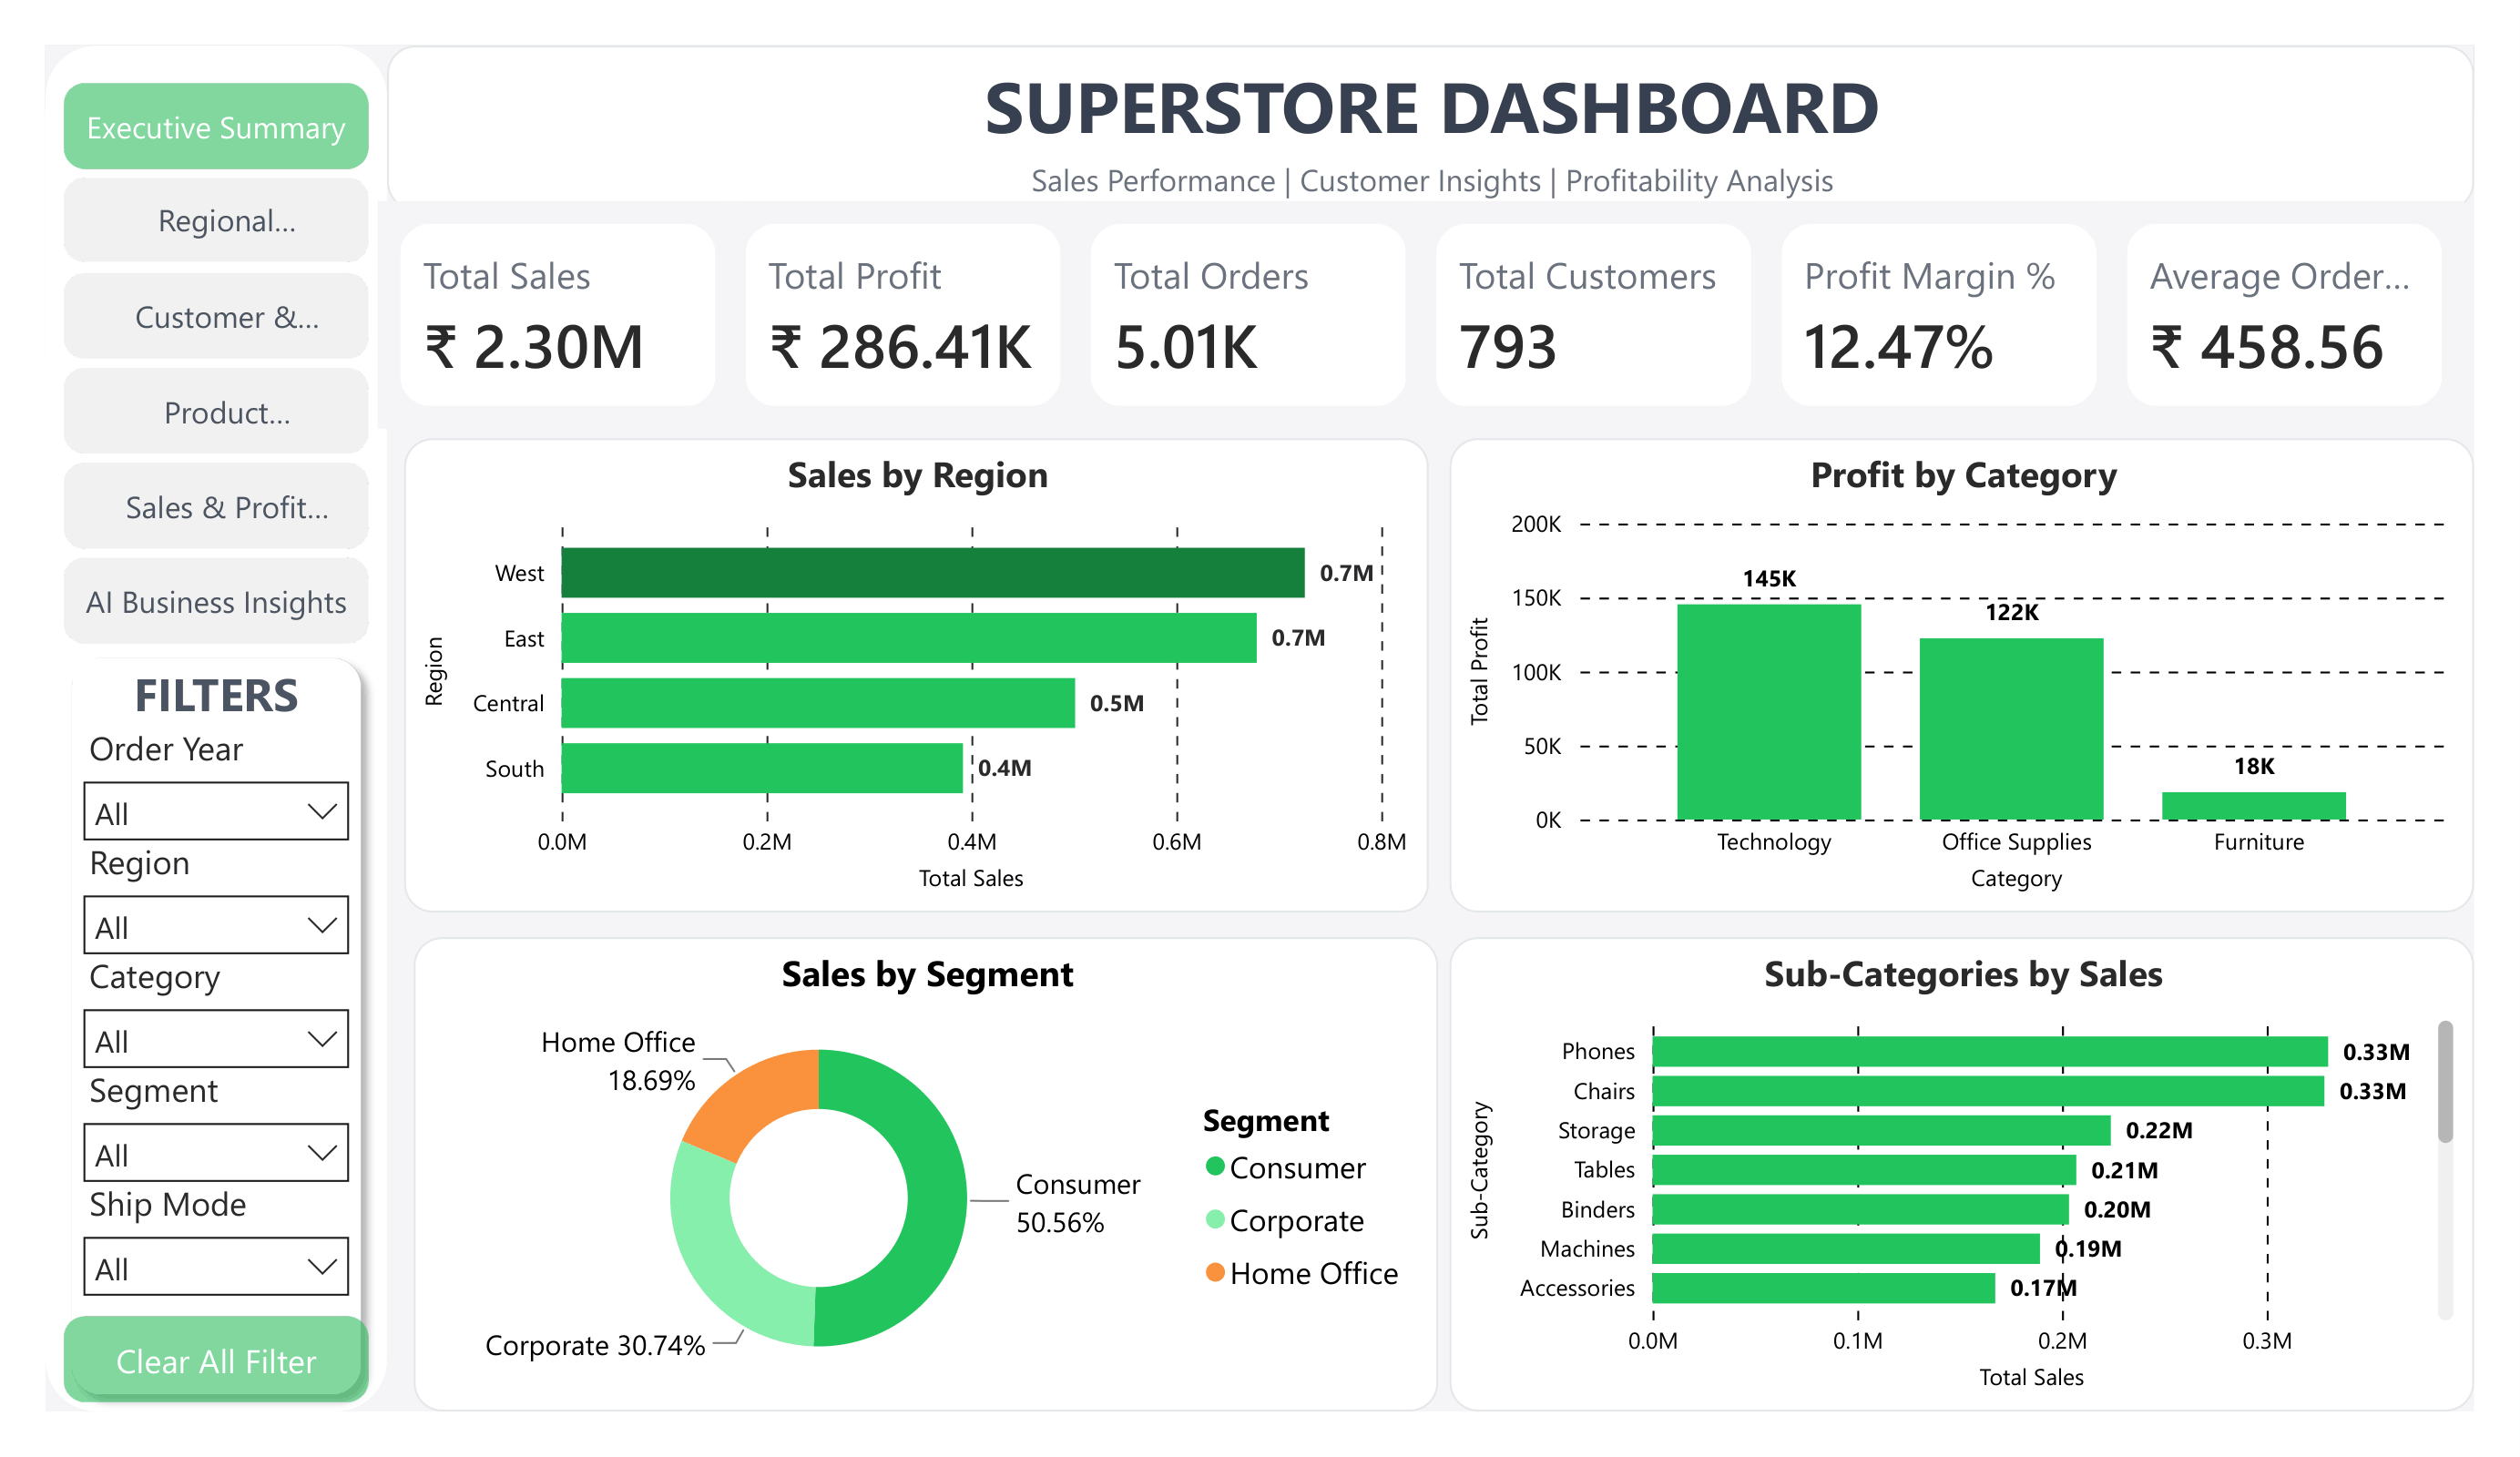

The dashboard page shown, as its layout file describes it:
{"tool":"powerbi","page":{"name":"Executive Summary","canvas":[1280,720],"ordinal":0},"visuals":[{"type":"textbox","title":"SUPERSTORE DASHBOARD","box":[180,0,1100,87.1],"z":0},{"type":"shape","box":[0,0,180,720],"z":1000},{"type":"actionButton","box":[10,70,160,44.3],"z":2000},{"type":"actionButton","box":[10,120,160,45],"z":3000},{"type":"actionButton","box":[10,170,160,45],"z":4000},{"type":"actionButton","box":[10,220,160,45],"z":5000},{"type":"actionButton","box":[10,270,160,45],"z":6000},{"type":"actionButton","box":[10,20,160,45],"z":7000},{"type":"shape","box":[5,314.3,170,405.7],"z":8000},{"type":"actionButton","box":[10,670,160,45],"z":9000},{"type":"slicer","fields":{"Values":["cleaned_superstore.Region"]},"box":[10,412.9,160,70],"z":10000},{"type":"slicer","fields":{"Values":["cleaned_superstore.Category"]},"box":[10,472.9,160,70],"z":11000},{"type":"slicer","fields":{"Values":["cleaned_superstore.Ship Mode"]},"box":[10,592.9,160,70],"z":12000},{"type":"slicer","fields":{"Values":["cleaned_superstore.Segment"]},"box":[10,532.9,160,70],"z":13000},{"type":"slicer","fields":{"Values":["cleaned_superstore.Order Year"]},"box":[10,352.9,160,70],"z":14000},{"type":"textbox","box":[10,320,160,46],"z":15000},{"type":"cardVisual","fields":{"Data":["Measures_table.Total Sales"]},"box":[170,77.1,200,130],"z":16000},{"type":"cardVisual","fields":{"Data":["Measures_table.Total Profit"]},"box":[352,77.1,200,130],"z":17000},{"type":"cardVisual","fields":{"Data":["Measures_table.Total Orders"]},"box":[534,77.1,200,130],"z":18000},{"type":"cardVisual","fields":{"Data":["Measures_table.Total Customers"]},"box":[716,77.1,200,130],"z":19000},{"type":"cardVisual","fields":{"Data":["Measures_table.Profit Margin %"]},"box":[898,77.1,200,130],"z":20000},{"type":"cardVisual","fields":{"Data":["Measures_table.Average Order Value"]},"box":[1080,77.1,200,130],"z":21000},{"type":"clusteredBarChart","title":"Sales by Region","fields":{"Y":["Measures_table.Total Sales"],"Category":["cleaned_superstore.Region"]},"box":[188.6,207.1,540,250],"z":22000},{"type":"clusteredColumnChart","title":"Profit by Category","fields":{"Y":["Measures_table.Total Profit"],"Category":["cleaned_superstore.Category"]},"box":[740,207.1,540,250],"z":23000},{"type":"donutChart","title":"Sales by Segment","fields":{"Y":["Measures_table.Total Sales"],"Category":["cleaned_superstore.Segment"]},"box":[194.3,470,540,250],"z":24000},{"type":"clusteredBarChart","title":"Sub-Categories by Sales","fields":{"Category":["cleaned_superstore.Sub-Category"],"Y":["Measures_table.Total Sales"]},"box":[740,470,540,250],"z":25000}]}

Visuals, with their boxes on the page's 1280x720 design canvas (x1, y1, x2, y2). These are canvas units, not pixel positions in the 2520x1457 screenshot, which may show the page scaled, cropped or inside an application window:
"SUPERSTORE DASHBOARD" textbox: {"left": 180, "top": 0, "right": 1280, "bottom": 87}
shape: {"left": 0, "top": 0, "right": 180, "bottom": 720}
actionButton: {"left": 10, "top": 70, "right": 170, "bottom": 114}
actionButton: {"left": 10, "top": 120, "right": 170, "bottom": 165}
actionButton: {"left": 10, "top": 170, "right": 170, "bottom": 215}
actionButton: {"left": 10, "top": 220, "right": 170, "bottom": 265}
actionButton: {"left": 10, "top": 270, "right": 170, "bottom": 315}
actionButton: {"left": 10, "top": 20, "right": 170, "bottom": 65}
shape: {"left": 5, "top": 314, "right": 175, "bottom": 720}
actionButton: {"left": 10, "top": 670, "right": 170, "bottom": 715}
slicer - cleaned_superstore.Region: {"left": 10, "top": 413, "right": 170, "bottom": 483}
slicer - cleaned_superstore.Category: {"left": 10, "top": 473, "right": 170, "bottom": 543}
slicer - cleaned_superstore.Ship Mode: {"left": 10, "top": 593, "right": 170, "bottom": 663}
slicer - cleaned_superstore.Segment: {"left": 10, "top": 533, "right": 170, "bottom": 603}
slicer - cleaned_superstore.Order Year: {"left": 10, "top": 353, "right": 170, "bottom": 423}
textbox: {"left": 10, "top": 320, "right": 170, "bottom": 366}
cardVisual - Measures_table.Total Sales: {"left": 170, "top": 77, "right": 370, "bottom": 207}
cardVisual - Measures_table.Total Profit: {"left": 352, "top": 77, "right": 552, "bottom": 207}
cardVisual - Measures_table.Total Orders: {"left": 534, "top": 77, "right": 734, "bottom": 207}
cardVisual - Measures_table.Total Customers: {"left": 716, "top": 77, "right": 916, "bottom": 207}
cardVisual - Measures_table.Profit Margin %: {"left": 898, "top": 77, "right": 1098, "bottom": 207}
cardVisual - Measures_table.Average Order Value: {"left": 1080, "top": 77, "right": 1280, "bottom": 207}
"Sales by Region" clusteredBarChart: {"left": 189, "top": 207, "right": 729, "bottom": 457}
"Profit by Category" clusteredColumnChart: {"left": 740, "top": 207, "right": 1280, "bottom": 457}
"Sales by Segment" donutChart: {"left": 194, "top": 470, "right": 734, "bottom": 720}
"Sub-Categories by Sales" clusteredBarChart: {"left": 740, "top": 470, "right": 1280, "bottom": 720}
